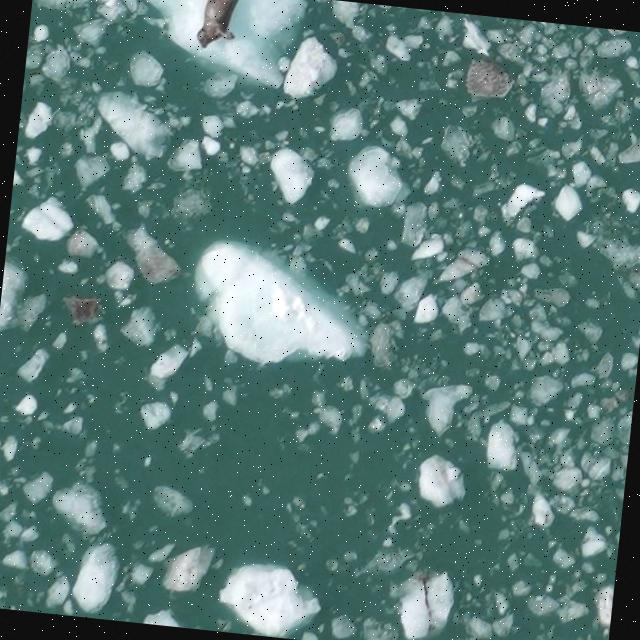seal: (195, 0, 239, 48)
